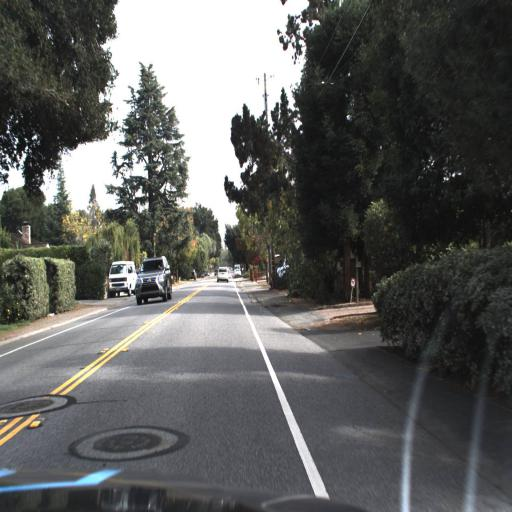car: (132, 252, 174, 307), (107, 260, 137, 297), (214, 262, 231, 286)
